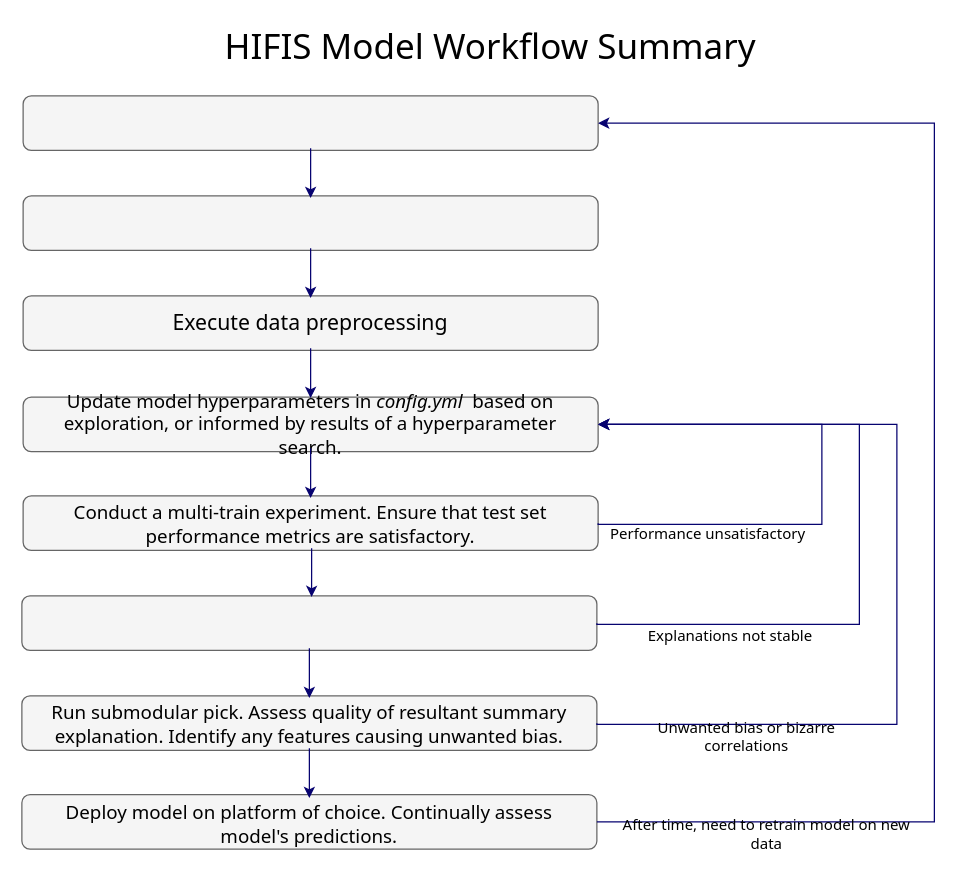
Image size: 966x874. Some labels were removed from this diagram. The box of each missing label's shape, as (x1, y1, x2, y2) in pixels:
Modify config.yml to ignore any columns that you do not want to use as features.: (22, 195, 598, 250)
Obtain explanations for a few clients and assess their stability.: (21, 595, 597, 650)
Run SQL query included in this repository to obtain raw HIFIS data.: (22, 95, 598, 150)
